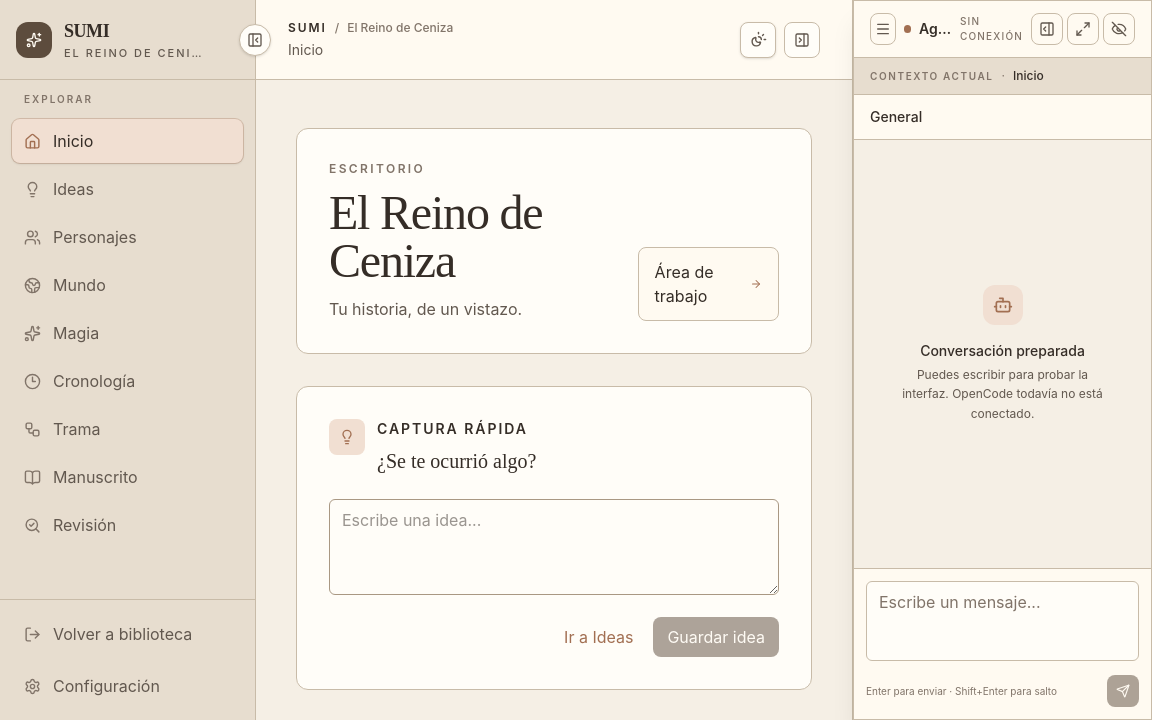
Scenario: SUMI shell › toggles the navigator and exits concentration with Escape
Click the button "Área de trabajo".
click(708, 284)  # box [638, 247, 779, 321]
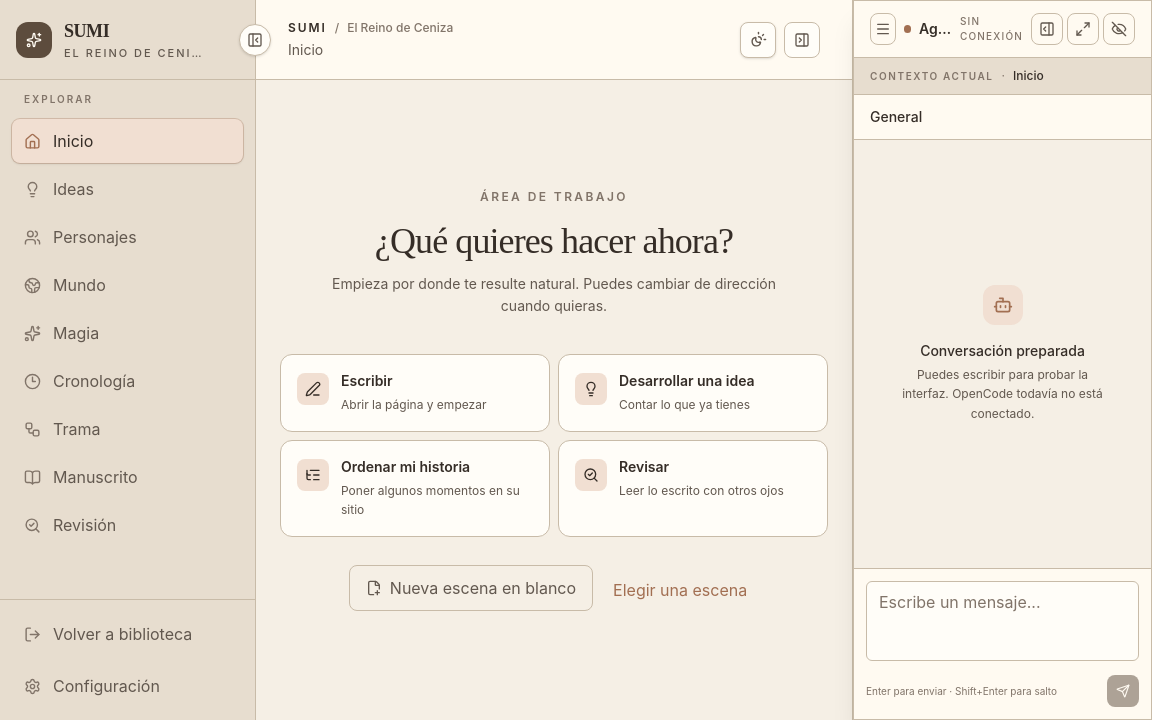
Click the button "Nueva escena en blanco".
click(471, 588)  # box [349, 564, 593, 610]
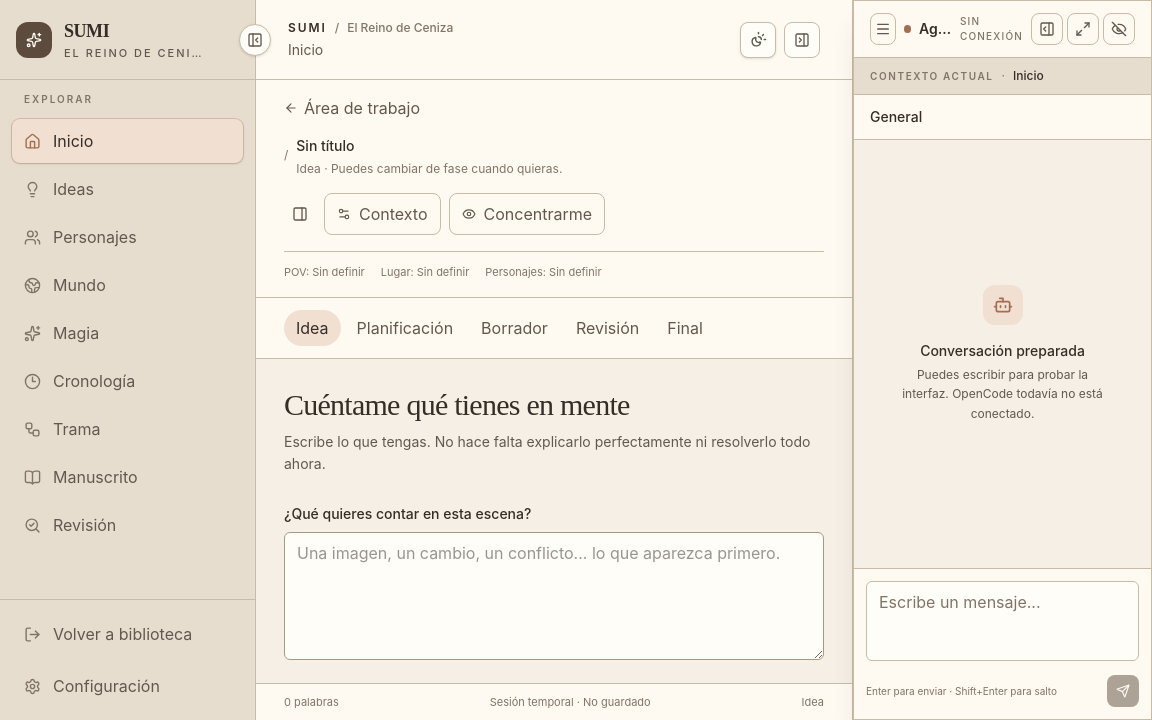
Check: the heading "De esta sesión" is not shown
Check: the button named "Mostrar escenas" is shown
Click the button named "Mostrar escenas".
click(300, 214)  # box [284, 198, 316, 230]
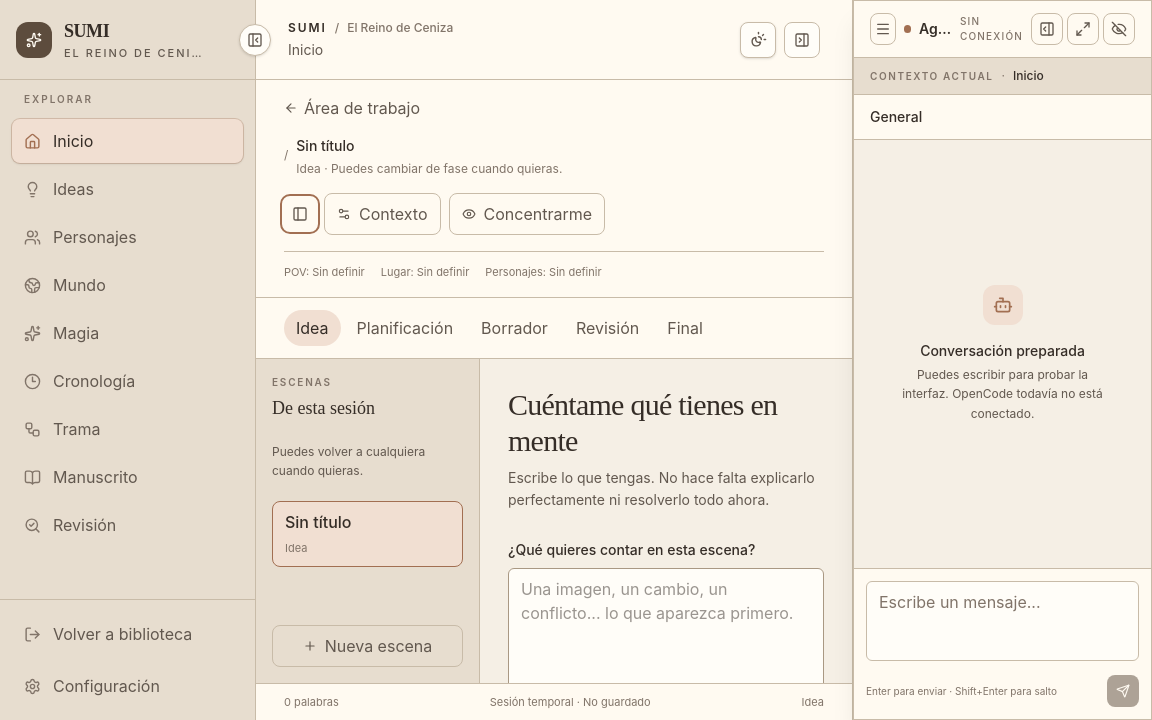
Check: the button named "Ocultar escenas" is shown
Check: the heading "De esta sesión" is shown, box [272, 398, 375, 418]
Click the button named "Ocultar escenas".
click(300, 214)  # box [284, 198, 316, 230]
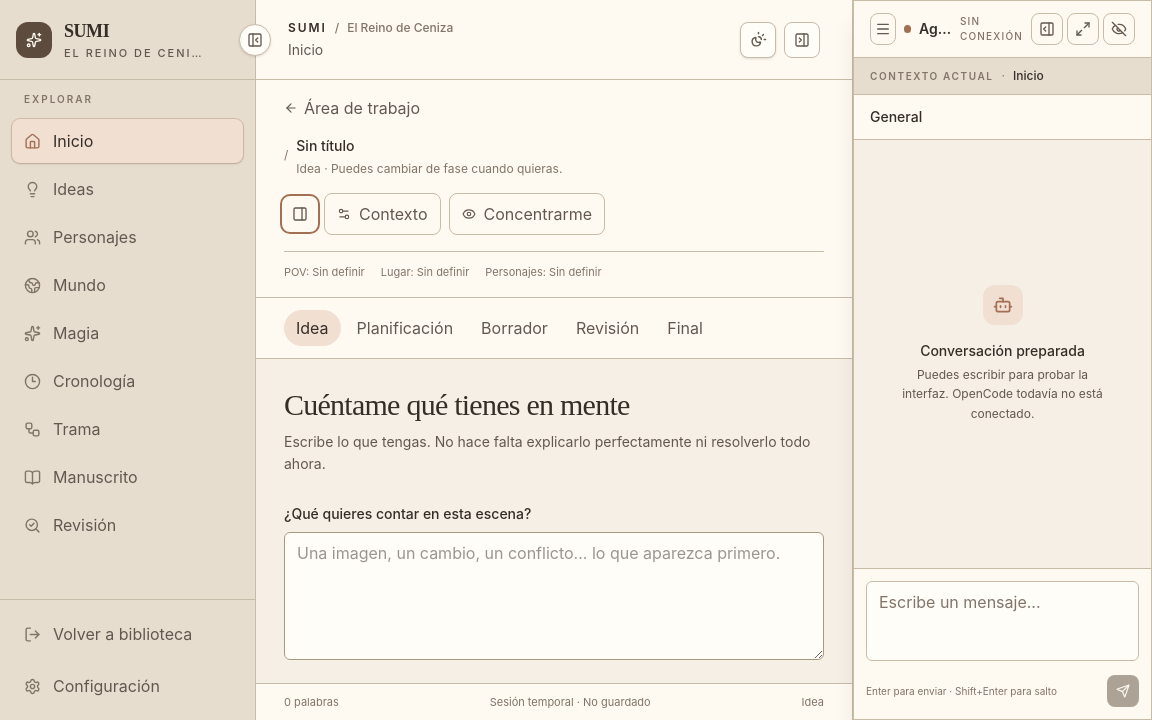
Click the button with aria-label "Modo concentración".
click(527, 214)  # box [448, 193, 605, 235]
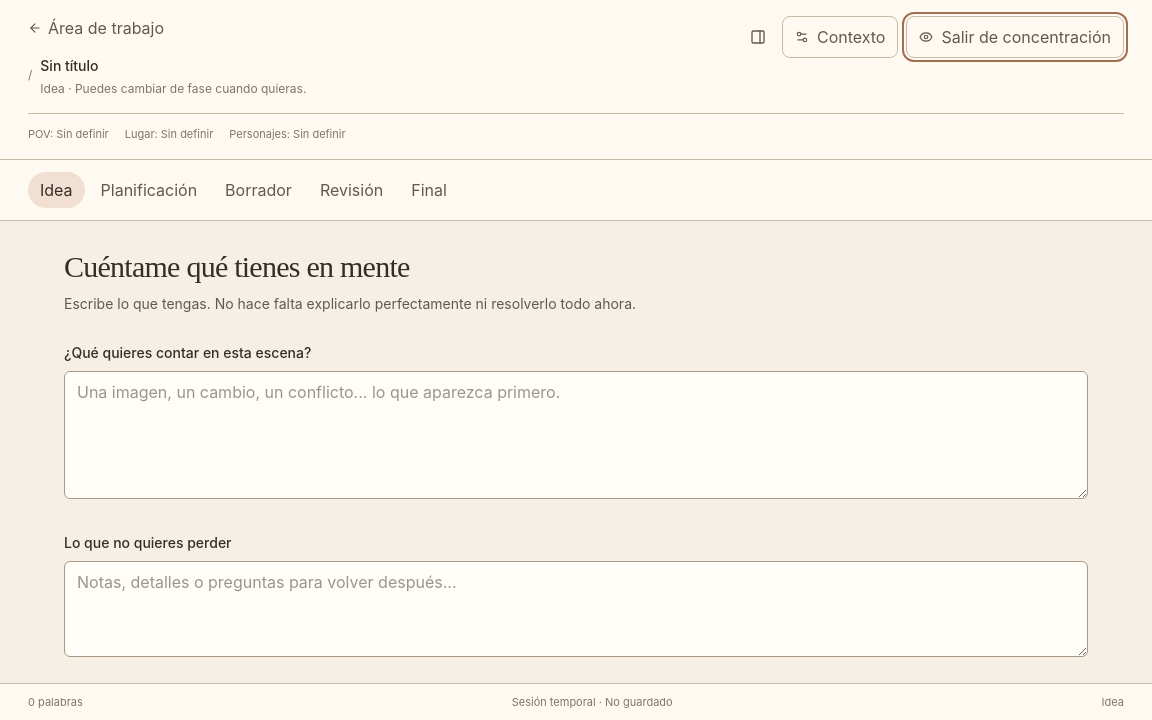
Check: the button "Salir de concentración" is shown, box [906, 16, 1124, 58]
Check: the text "Agent" is gone
Press Escape
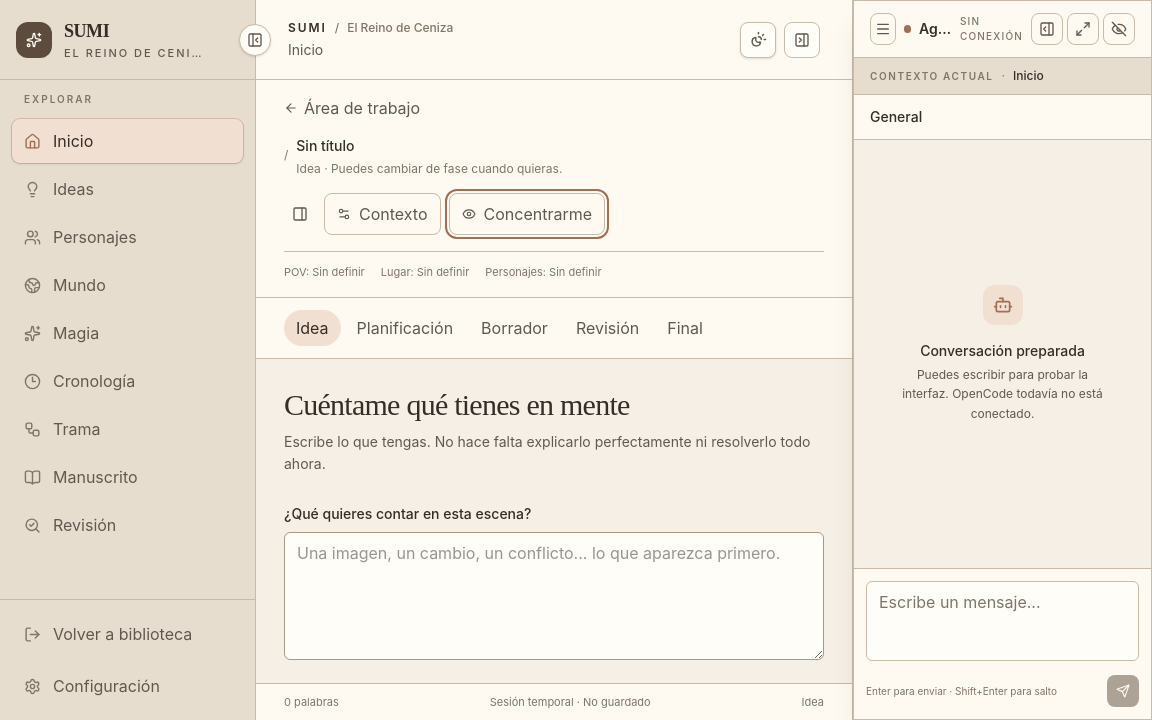
Check: the button with aria-label "Modo concentración" is shown, box [448, 193, 605, 235]
Check: the navigation bar named "Navegación principal" is shown, box [0, 80, 255, 599]
Check: the text "Agent" is shown, box [919, 19, 952, 39]
